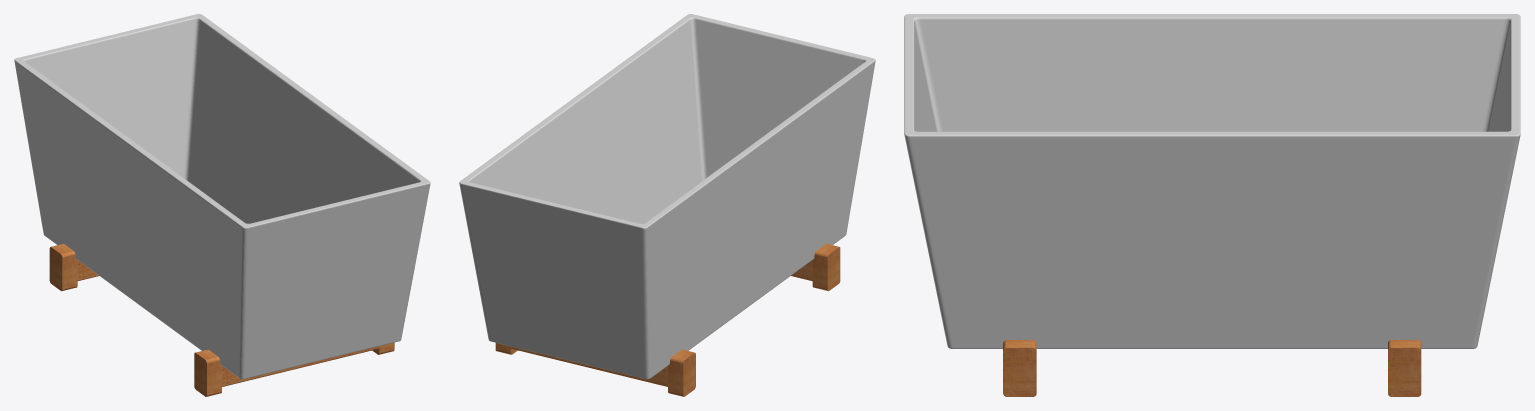
Rendered from outdoor_1.glb.
3 views of the same model, side by side, from view 1: azimuth 30°, elevation 25°; view 2: azimuth 150°, elevation 25°; view 3: azimuth 270°, elevation 25° (orthographic). The views are drawn at different scales.
Parts seen in each view (by area): view 1: IKE160048; view 2: IKE160048; view 3: IKE160048.
Boxes of the visible parts, x1,y1,x2,y2 form: IKE160048: (14,14,430,396); IKE160048: (459,14,875,396); IKE160048: (904,14,1520,396).
Bounding box in the file's own units: 150 × 150 × 321.
Materials: 2 (1 with a texture image).
